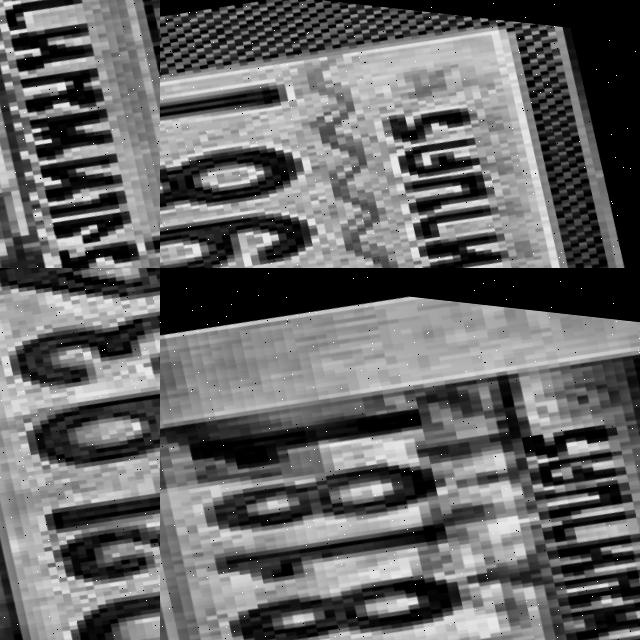license-plate: (160, 268, 640, 640), (160, 0, 640, 268), (0, 268, 160, 640), (0, 0, 160, 268)
